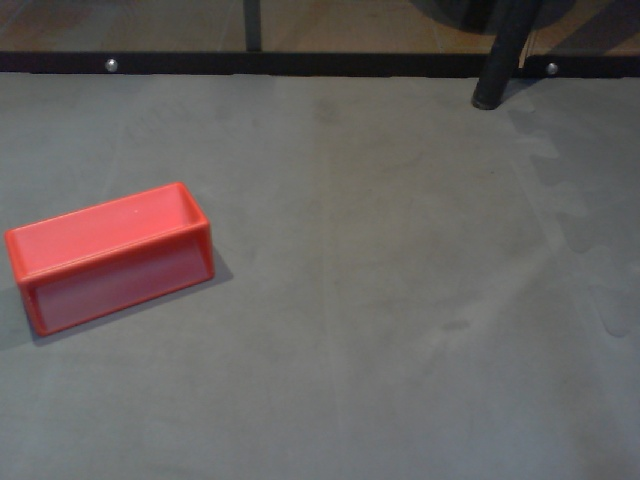RedSample: (3, 181, 215, 340)
